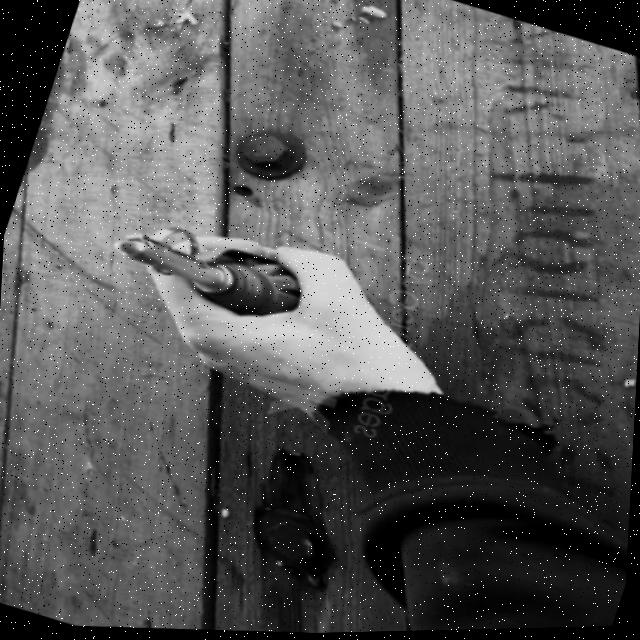grenade: (104, 216, 313, 334)
